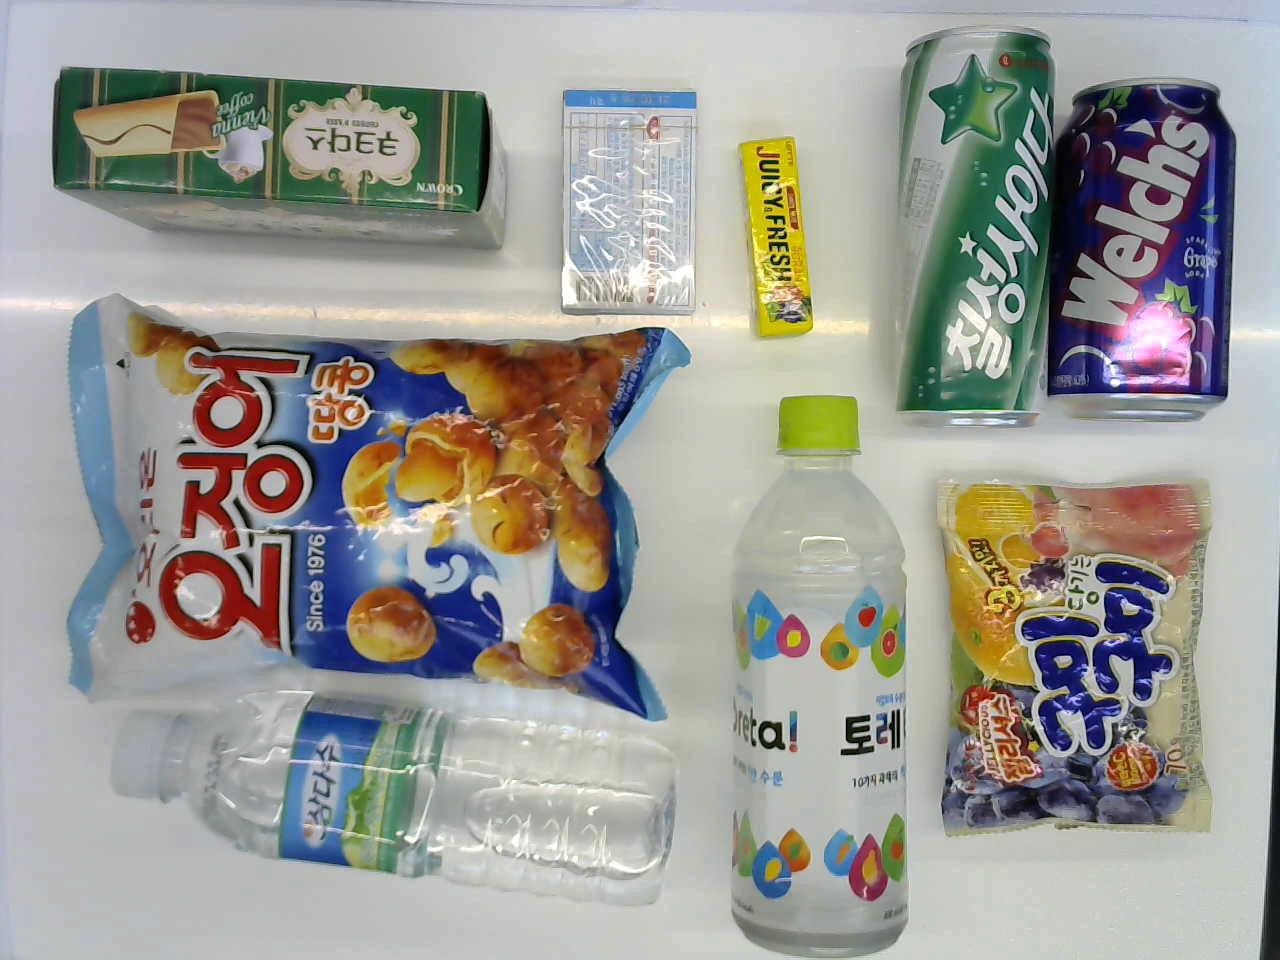ID_gum: (560, 83, 708, 318)
cidar: (879, 29, 1048, 419)
couque_coffee: (41, 53, 499, 248)
gumi_gumi: (923, 456, 1214, 846)
juicyfresh: (737, 132, 812, 334)
samdasu: (111, 687, 682, 928)
squid_peanut: (63, 284, 681, 697)
toreta: (736, 380, 906, 953)
welchs: (1049, 78, 1240, 425)
